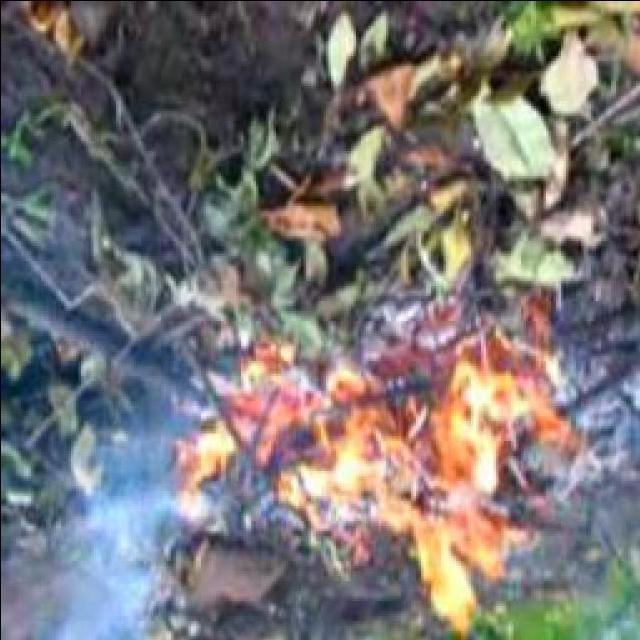Fire: (188, 351, 548, 628)
